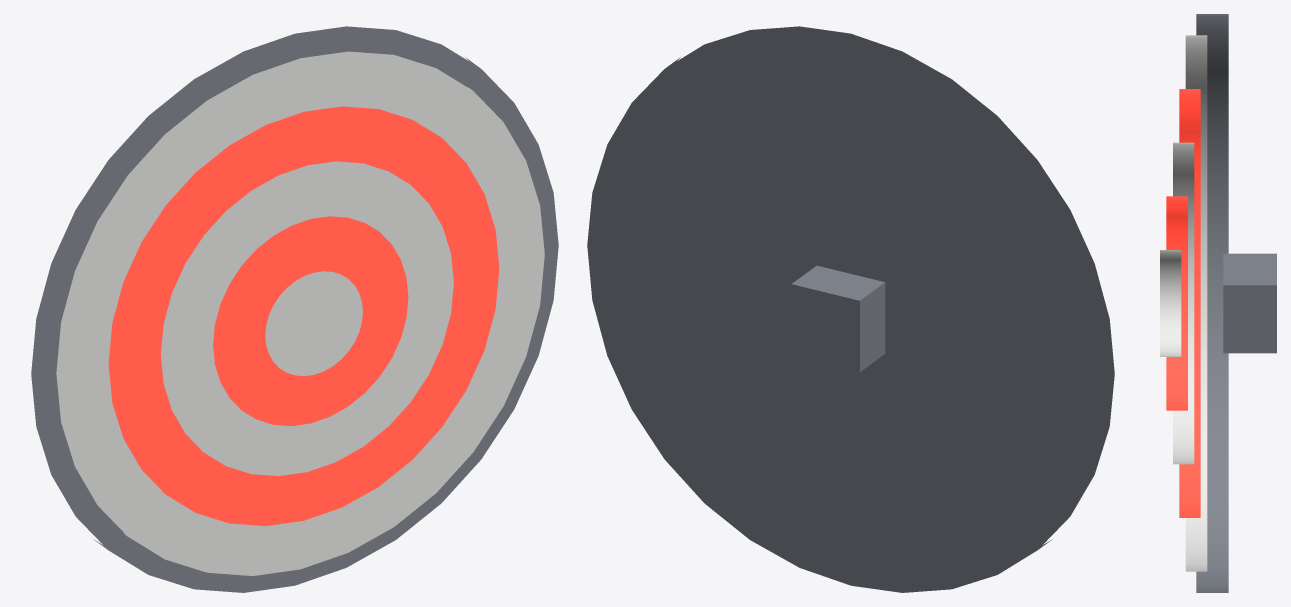
File: target.gltf
3 views of the same model, side by side, from view 1: azimuth 30°, elevation 25°; view 2: azimuth 150°, elevation 25°; view 3: azimuth 270°, elevation 25° (orthographic). The views are drawn at different scales.
Parts seen in each view (by area): view 1: target; view 2: target; view 3: target.
Part boxes in pixels (x1=…): target: x1=31, y1=26, x2=558, y2=592; target: x1=587, y1=26, x2=1114, y2=592; target: x1=1160, y1=14, x2=1276, y2=592.
Bounding box in the file's own units: 1.08 × 1.08 × 0.218.
